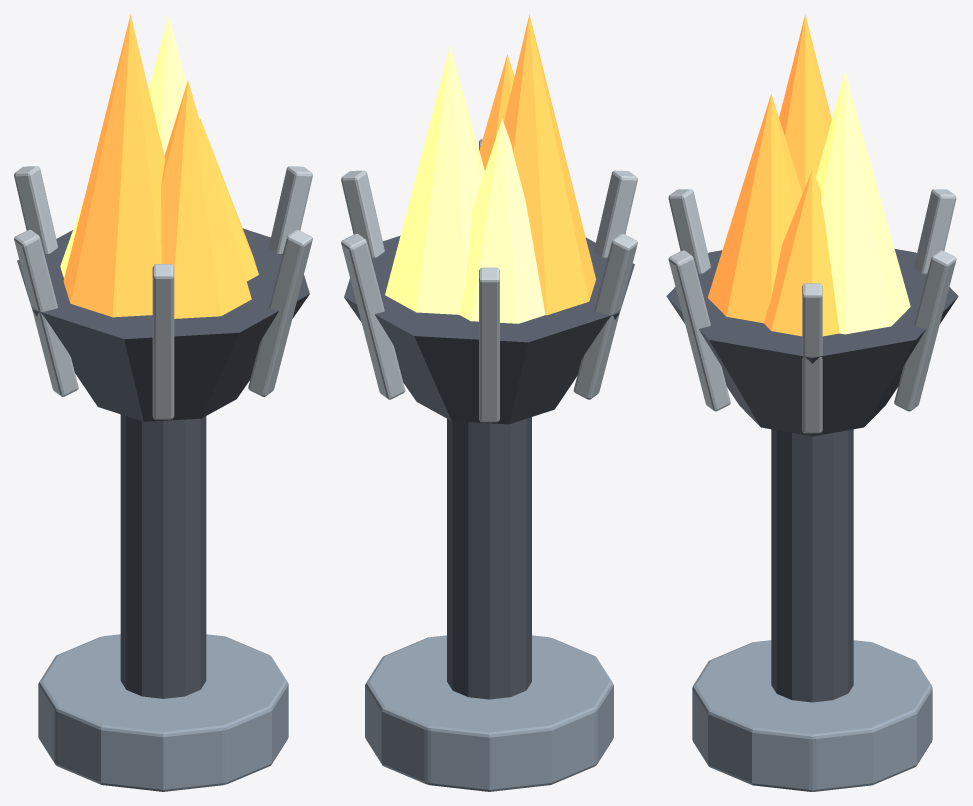
File: brazier.glb
The picture shows the model from 3 angles, left to right: view 1: azimuth 30°, elevation 25°; view 2: azimuth 150°, elevation 25°; view 3: azimuth 270°, elevation 25°; orthographic projection. The views are drawn at different scales.
Visible parts, largest first — view 1: Brazier_Foot, Brazier_Stem, Brazier_Bowl, Brazier_DecorativeFlame.004, Brazier_DecorativeFlame.002, Brazier_Rib.005, Brazier_Rib.003, Brazier_Rib.004, Brazier_DecorativeFlame.003, Brazier_Rib, Brazier_Rib.002, Brazier_DecorativeFlame; view 2: Brazier_Foot, Brazier_Stem, Brazier_Bowl, Brazier_DecorativeFlame.003, Brazier_DecorativeFlame.004, Brazier_DecorativeFlame.001, Brazier_Rib.001, Brazier_Rib.003, Brazier_Rib.002, Brazier_Rib, Brazier_Rib.004, Brazier_DecorativeFlame.002; view 3: Brazier_Foot, Brazier_Stem, Brazier_Bowl, Brazier_DecorativeFlame.003, Brazier_DecorativeFlame.002, Brazier_DecorativeFlame, Brazier_DecorativeFlame.004, Brazier_Rib.001, Brazier_Rib.005, Brazier_Rib, Brazier_Rib.002, Brazier_Rib.004.
Boxes of the visible parts, box(x1,y1,x2,y2) form: Brazier_Foot: box(38, 634, 288, 791); Brazier_Stem: box(120, 414, 206, 698); Brazier_Bowl: box(17, 228, 309, 421); Brazier_DecorativeFlame.004: box(63, 14, 165, 317); Brazier_DecorativeFlame.002: box(161, 80, 251, 318); Brazier_Rib.005: box(248, 230, 312, 396); Brazier_Rib.003: box(14, 230, 78, 396); Brazier_Rib.004: box(152, 264, 174, 419); Brazier_DecorativeFlame.003: box(148, 16, 186, 155); Brazier_Rib: box(269, 166, 312, 253); Brazier_Rib.002: box(14, 166, 57, 253); Brazier_DecorativeFlame: box(200, 119, 258, 281); Brazier_Foot: box(365, 635, 613, 791); Brazier_Stem: box(447, 417, 531, 699); Brazier_Bowl: box(344, 235, 634, 424); Brazier_DecorativeFlame.003: box(385, 46, 484, 314); Brazier_DecorativeFlame.004: box(503, 14, 595, 315); Brazier_DecorativeFlame.001: box(459, 119, 545, 323); Brazier_Rib.001: box(341, 233, 405, 399); Brazier_Rib.003: box(573, 233, 637, 399); Brazier_Rib.002: box(479, 267, 499, 422); Brazier_Rib: box(341, 170, 384, 257); Brazier_Rib.004: box(594, 170, 637, 257); Brazier_DecorativeFlame.002: box(479, 54, 514, 170); Brazier_Foot: box(692, 640, 932, 791); Brazier_Stem: box(771, 429, 853, 702); Brazier_Bowl: box(666, 249, 958, 436); Brazier_DecorativeFlame.003: box(816, 72, 910, 334); Brazier_DecorativeFlame.002: box(707, 93, 802, 323); Brazier_DecorativeFlame: box(764, 170, 839, 336); Brazier_DecorativeFlame.004: box(779, 14, 831, 193); Brazier_Rib.001: box(894, 250, 956, 411); Brazier_Rib.005: box(668, 250, 730, 411); Brazier_Rib: box(802, 283, 822, 433); Brazier_Rib.002: box(914, 189, 956, 273); Brazier_Rib.004: box(668, 189, 710, 273).
Bounding box in the file's own units: 1.02 × 2.47 × 0.92.
